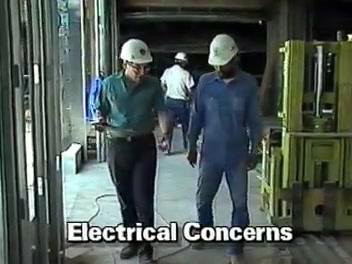no -hi-vis jacket: (199, 74, 254, 165), (105, 73, 157, 139), (164, 66, 191, 104)
